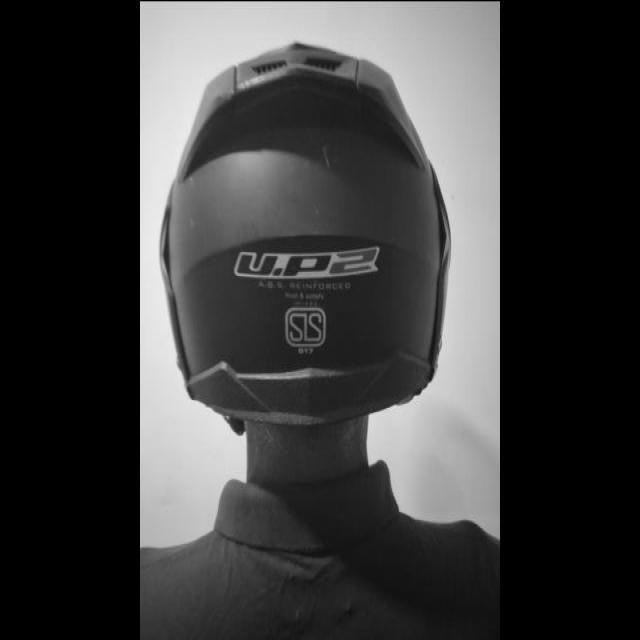5_casco: (156, 39, 452, 428)
